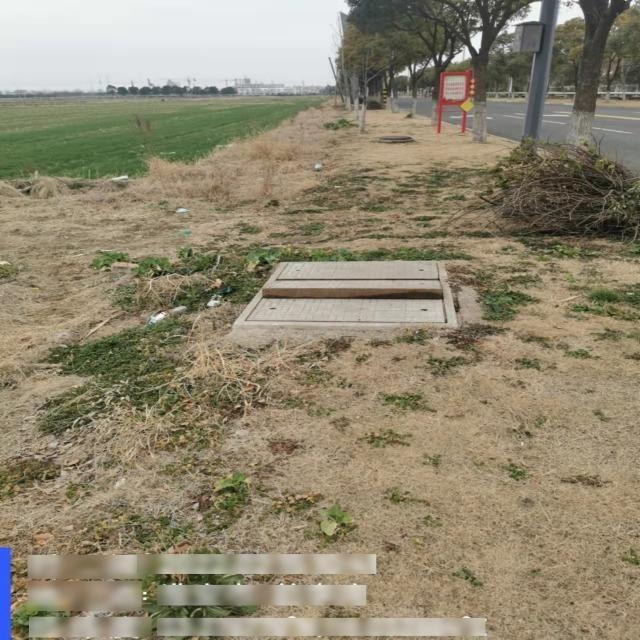Faulty: (237, 260, 456, 330)
